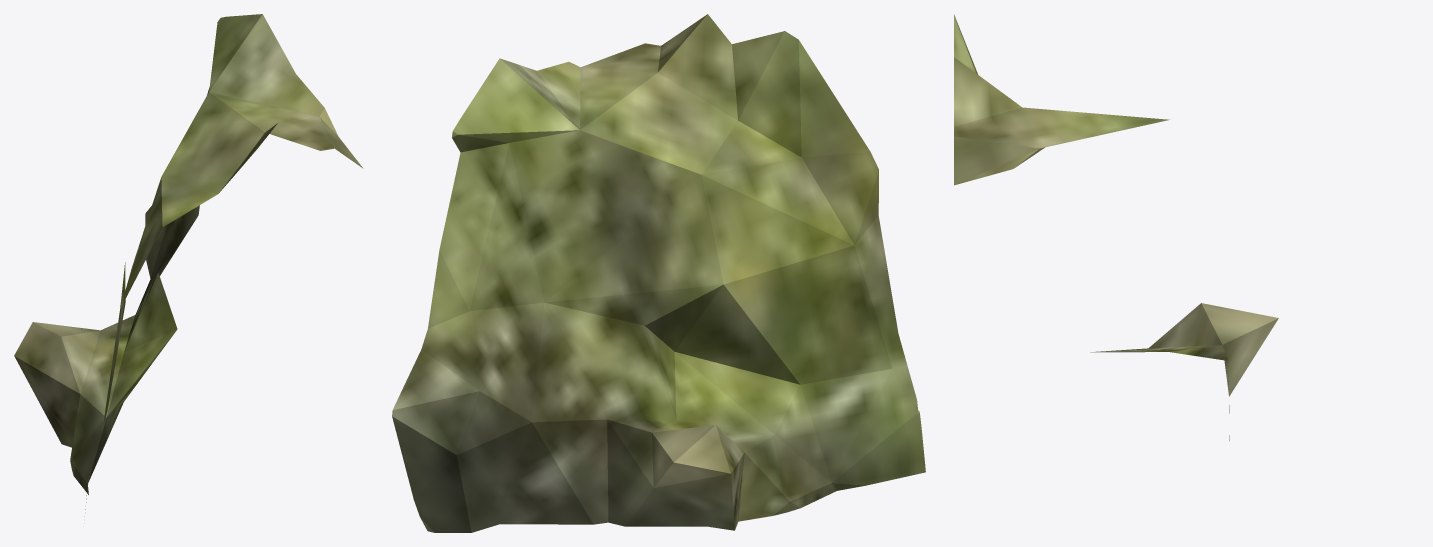
3 renders of one model, left to right at view 1: azimuth 30°, elevation 25°; view 2: azimuth 150°, elevation 25°; view 3: azimuth 270°, elevation 25°, orthographic. The views are drawn at different scales.
Size of the model in its own units: 0.8509 by 1.09 by 1.04.
1 material, 1 textured.
